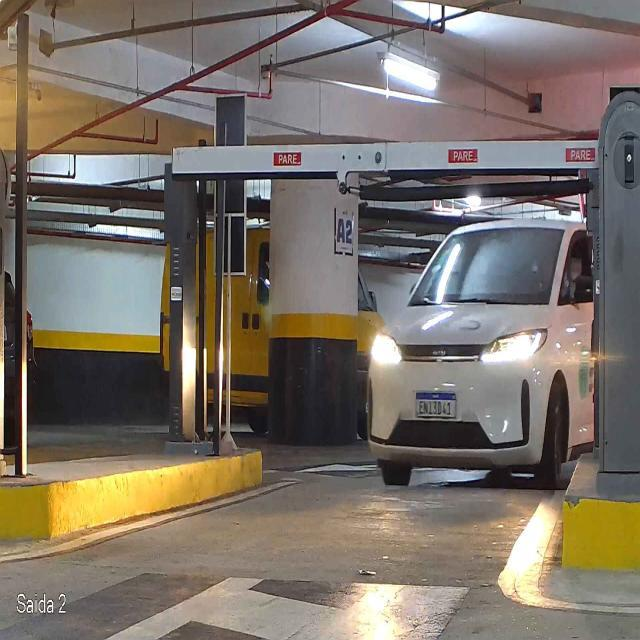mercosul_plate: (414, 392, 458, 418)
